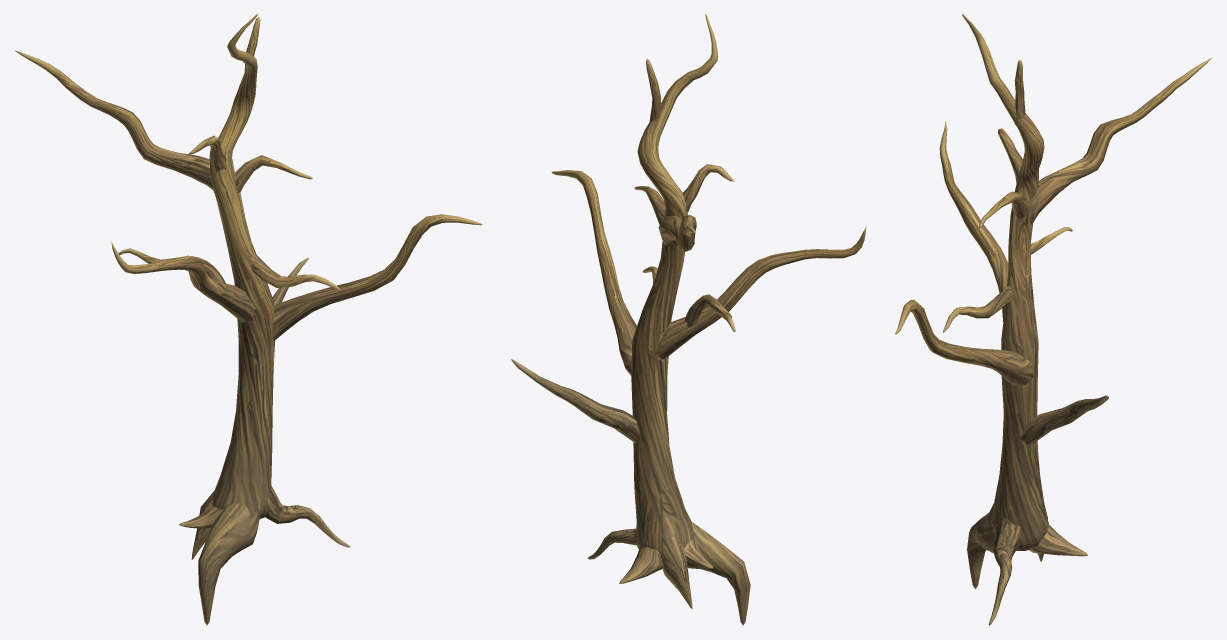
Rendered from DE_Tree_03.fbx.
3 renders of one model, left to right at view 1: azimuth 30°, elevation 25°; view 2: azimuth 150°, elevation 25°; view 3: azimuth 270°, elevation 25°, orthographic.
Parts seen in each view (by area): view 1: DE_Tree_03; view 2: DE_Tree_03; view 3: DE_Tree_03.
Boxes of the visible parts, bbox=[...] form: DE_Tree_03: bbox=[15, 14, 482, 625]; DE_Tree_03: bbox=[511, 14, 866, 625]; DE_Tree_03: bbox=[895, 14, 1211, 625].
Bounding box in the file's own units: 11.04 × 18.48 × 8.91.
